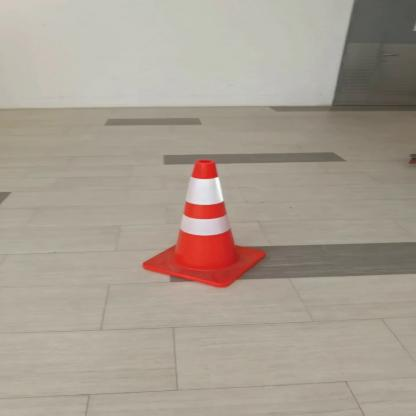cone: (124, 156, 278, 291)
